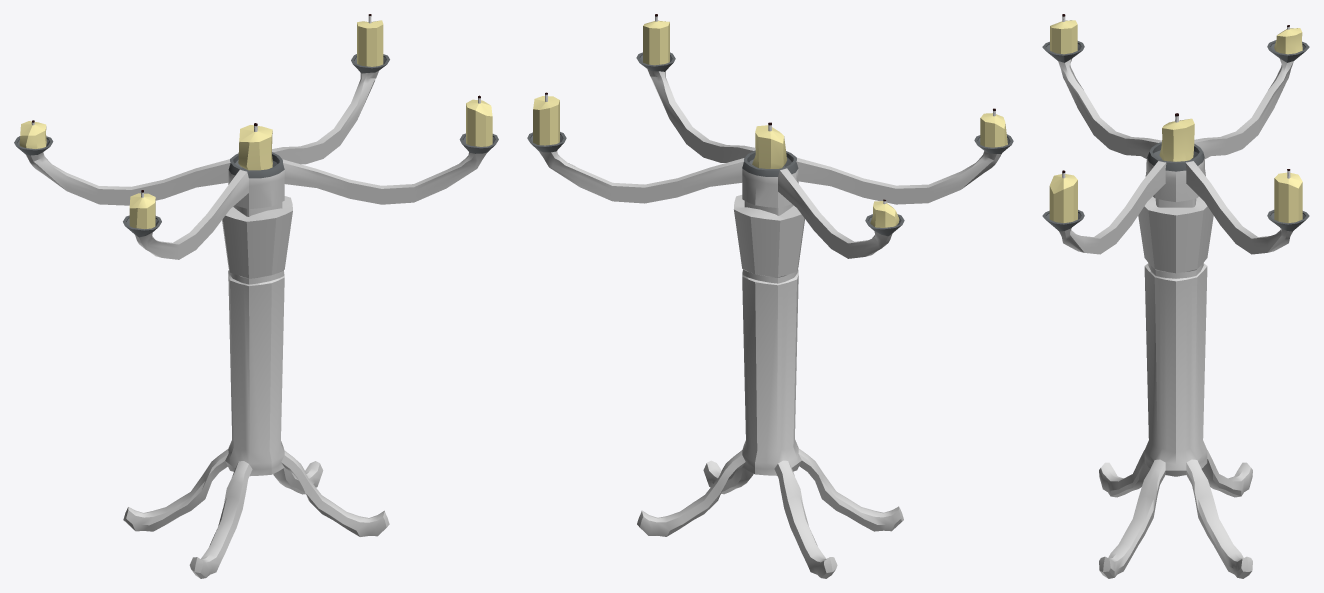
File: Candelabra001.fbx
3 renders of one model, left to right at view 1: azimuth 30°, elevation 25°; view 2: azimuth 150°, elevation 25°; view 3: azimuth 270°, elevation 25°, orthographic. The views are drawn at different scales.
Visible parts, largest first — view 1: Candelabra; view 2: Candelabra; view 3: Candelabra.
Boxes of the visible parts, <box> form: Candelabra: <box>14,14,498,578</box>; Candelabra: <box>527,14,1013,578</box>; Candelabra: <box>1042,14,1309,578</box>.
Size of the model in its own units: 1.55 by 1.74 by 0.9373.
